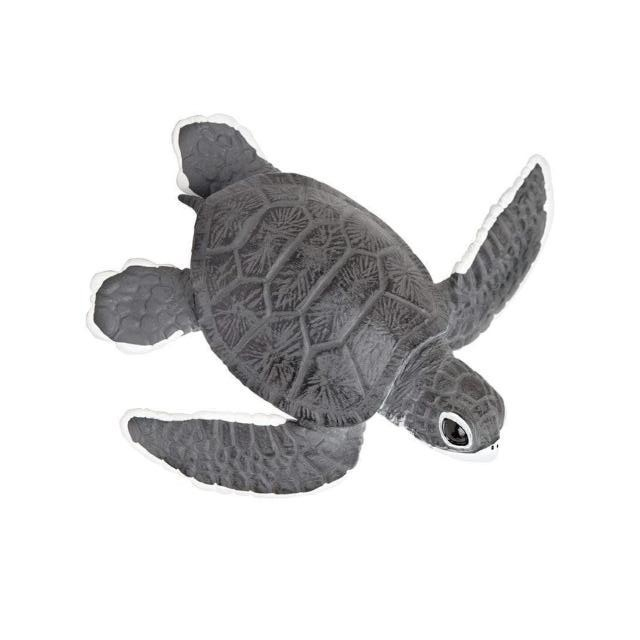turtle: (83, 116, 552, 500)
